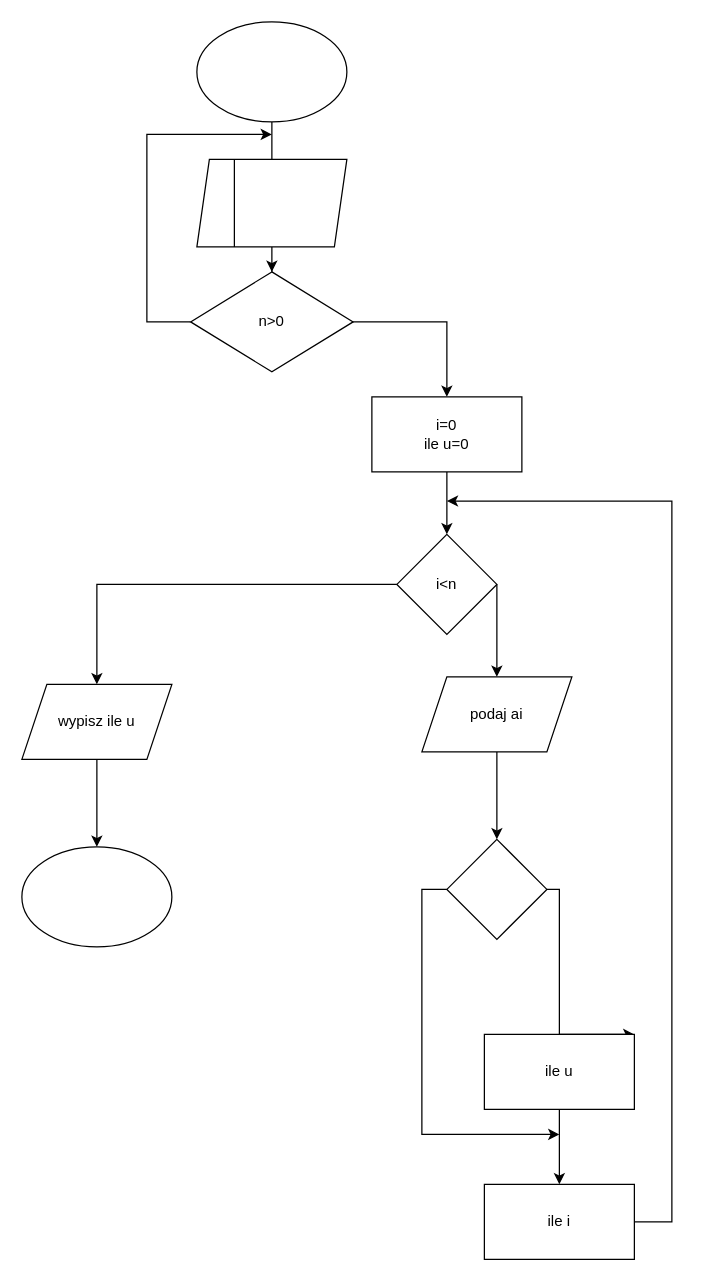
The diagram is 704 pixels wide and 1281 high, and some of its shapes have lost their labels. Here are the shapes that lost their labels. From the top down, the centre of each, then its label:
pixel 271 71: START
pixel 271 202: input n
pixel 96 896: STOP
pixel 496 888: ai<0
